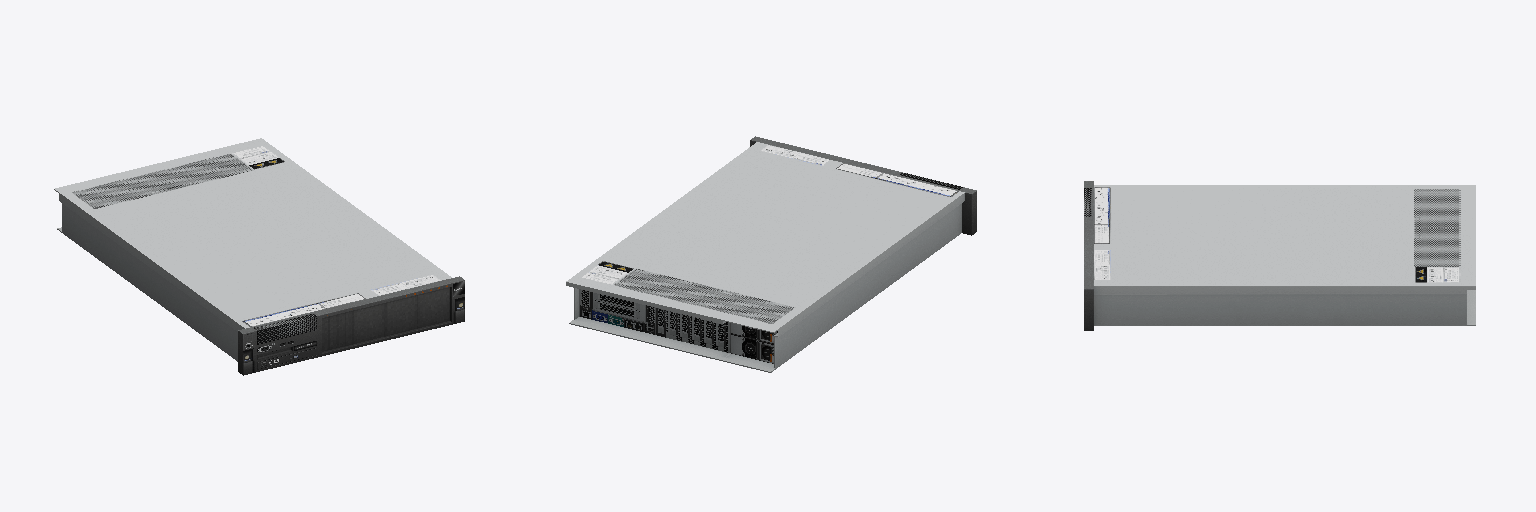
3 renders of one model, left to right at view 1: azimuth 30°, elevation 25°; view 2: azimuth 150°, elevation 25°; view 3: azimuth 270°, elevation 25°, orthographic.
Parts seen in each view (by area): view 1: default; view 2: default; view 3: default.
Boxes of the visible parts, <box> form: default: <box>54,138,464,375</box>; default: <box>566,136,976,372</box>; default: <box>1084,181,1475,330</box>.
Size of the model in its own units: 50.55 by 9.04 by 77.46.
1 materials, 1 textured.